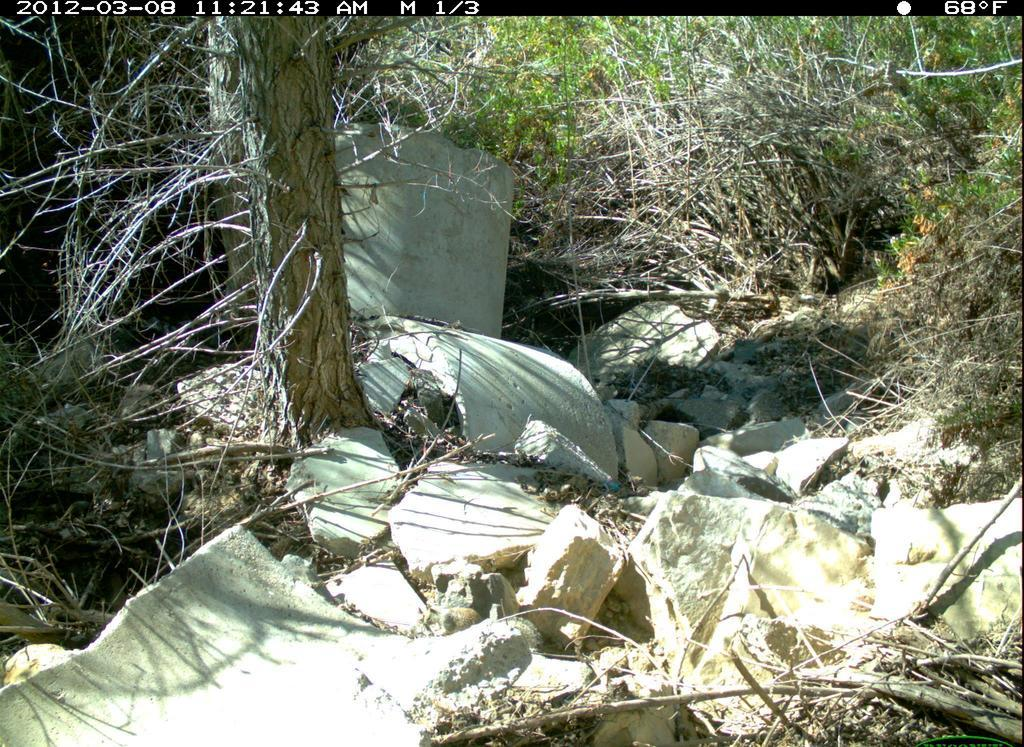squirrel: (418, 602, 557, 657)
